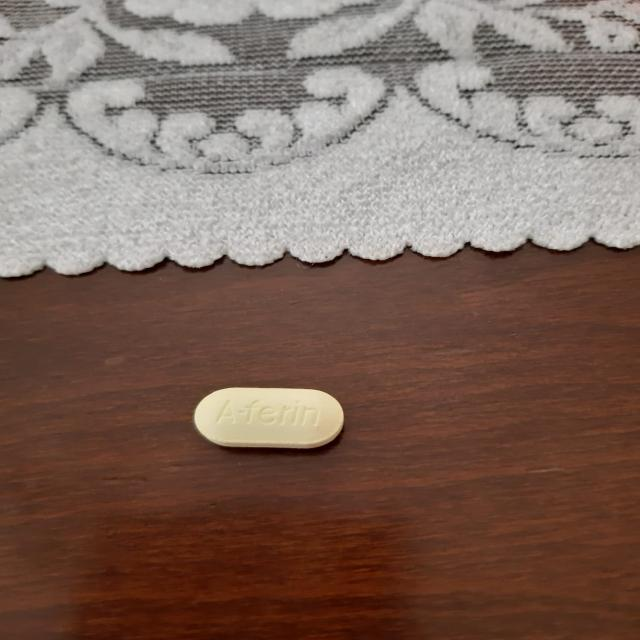pills: (181, 377, 355, 458)
